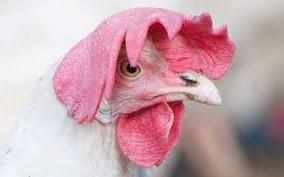AbNormal: (56, 8, 235, 135)
